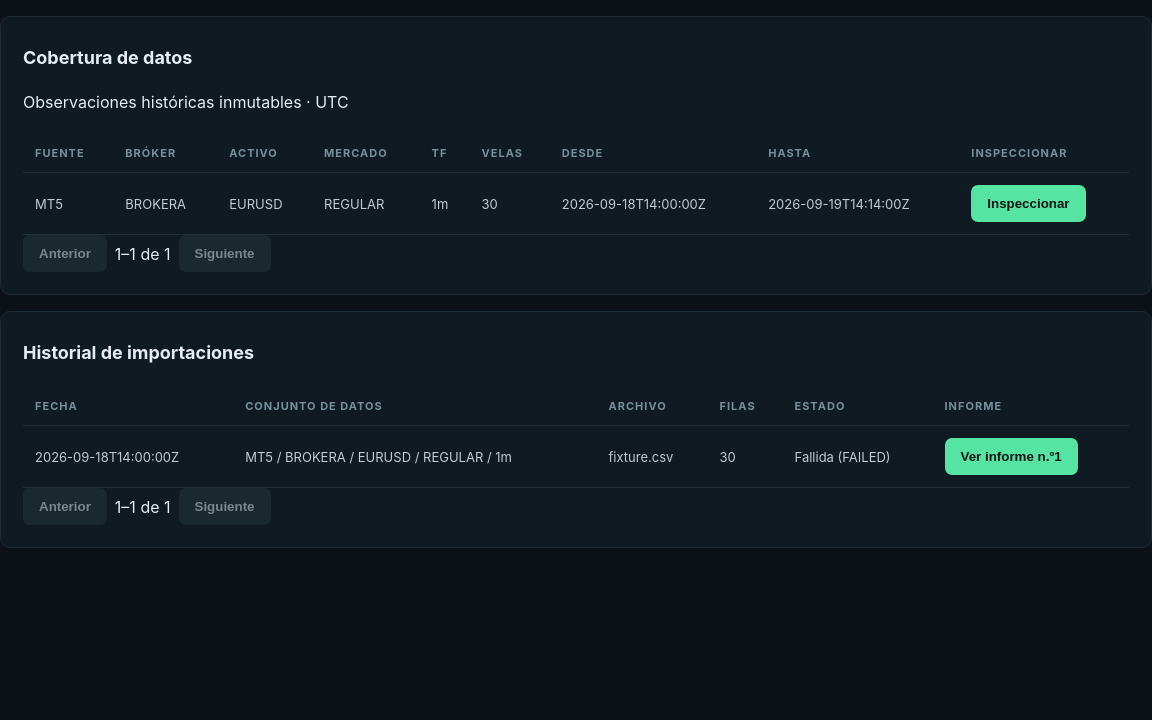
displays data conflict evidence, not a generic failure
The image size is (1152, 720).
Click the button "Ver informe n.º1" at [1011, 456], box [944,438,1078,475]
(page scrolled)
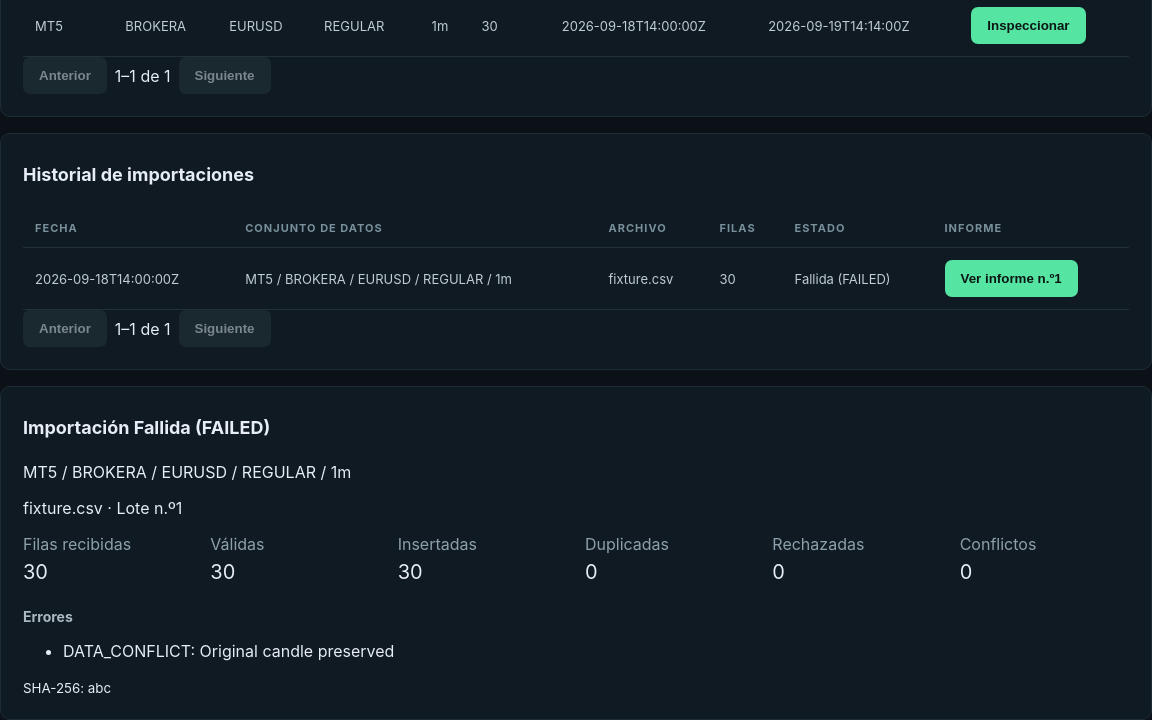
Expected: the message shows "DATA_CONFLICT", [63,641,190,661]
